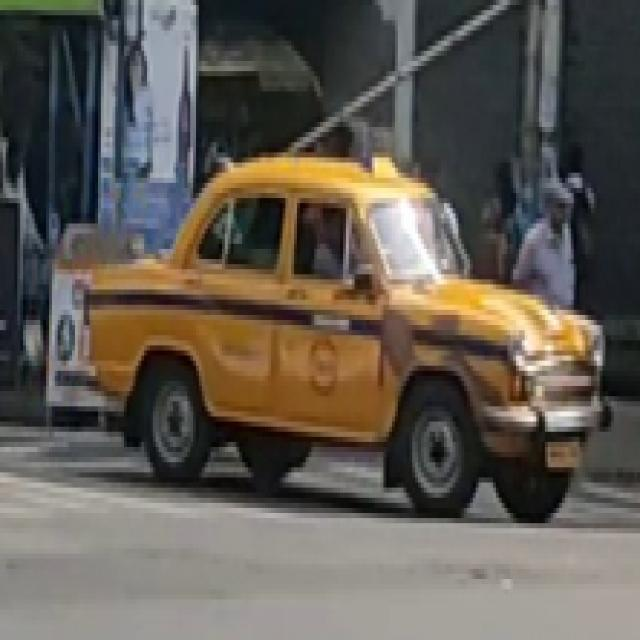ambasador_taxi: (84, 159, 606, 524)
